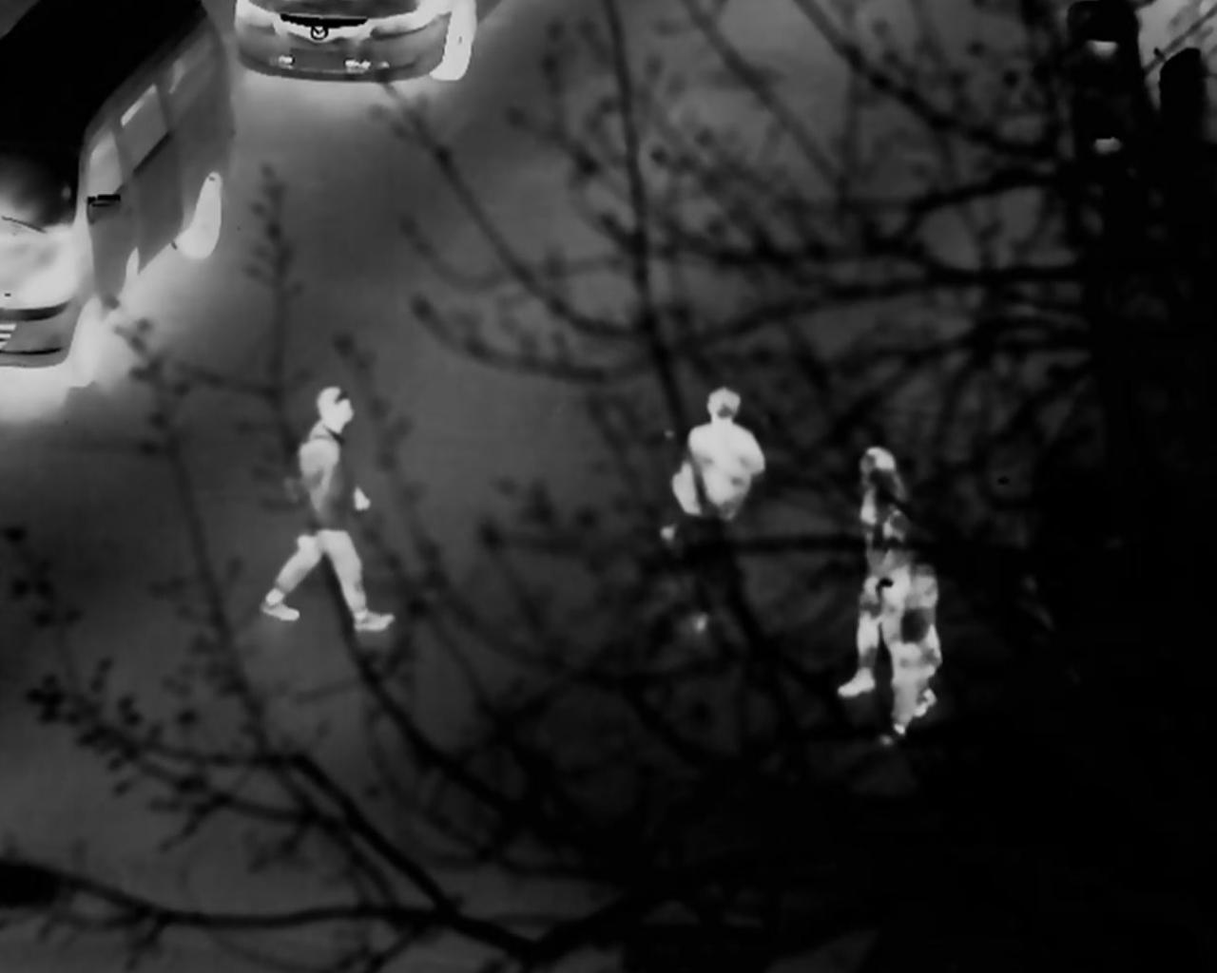person: (280, 374, 402, 635), (855, 447, 952, 749), (656, 386, 785, 568)
